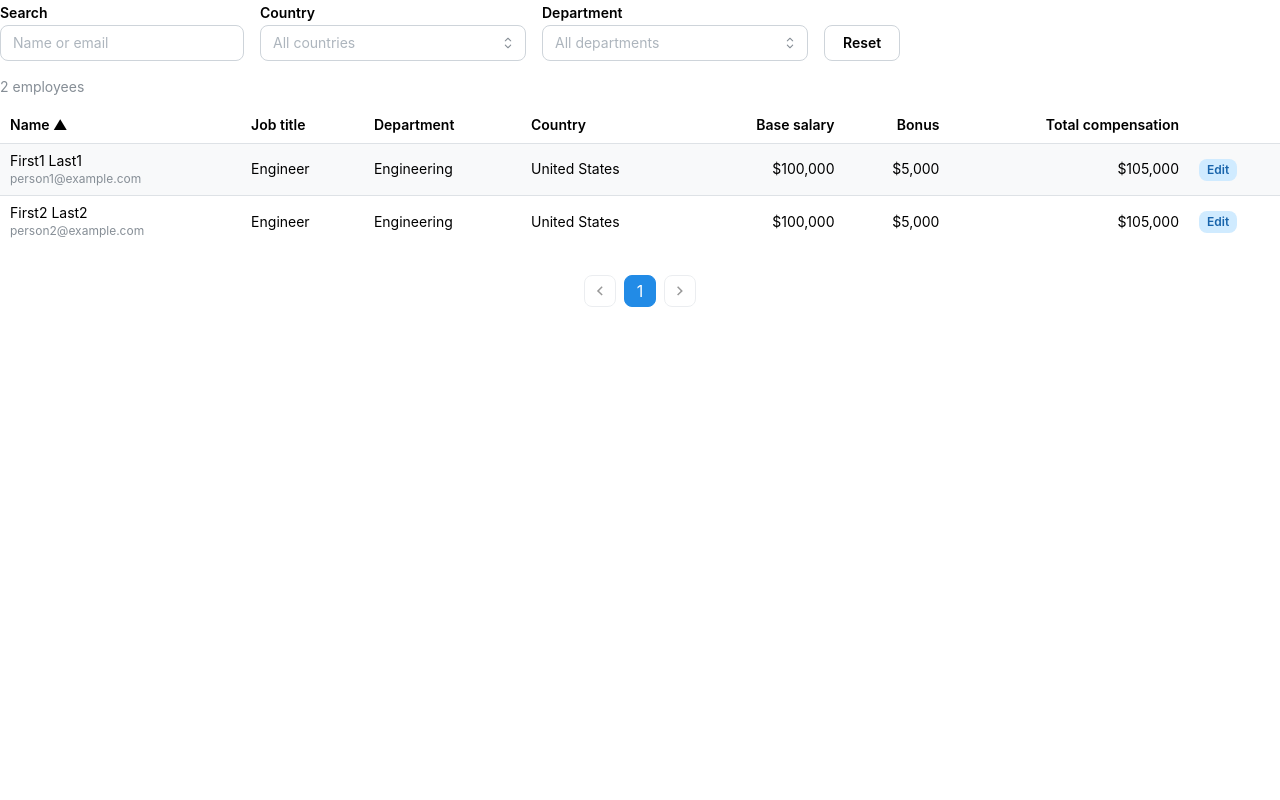
Test: DirectoryPage › editing salary › opens the modal for the chosen employee
This screenshot has width=1280, height=800.
Expected: the text "First1 Last1" is shown, [10,152,82,169]
Click the button with aria-label "Edit salary for First2 Last2" at (1218, 222), box [1199,211,1237,233]
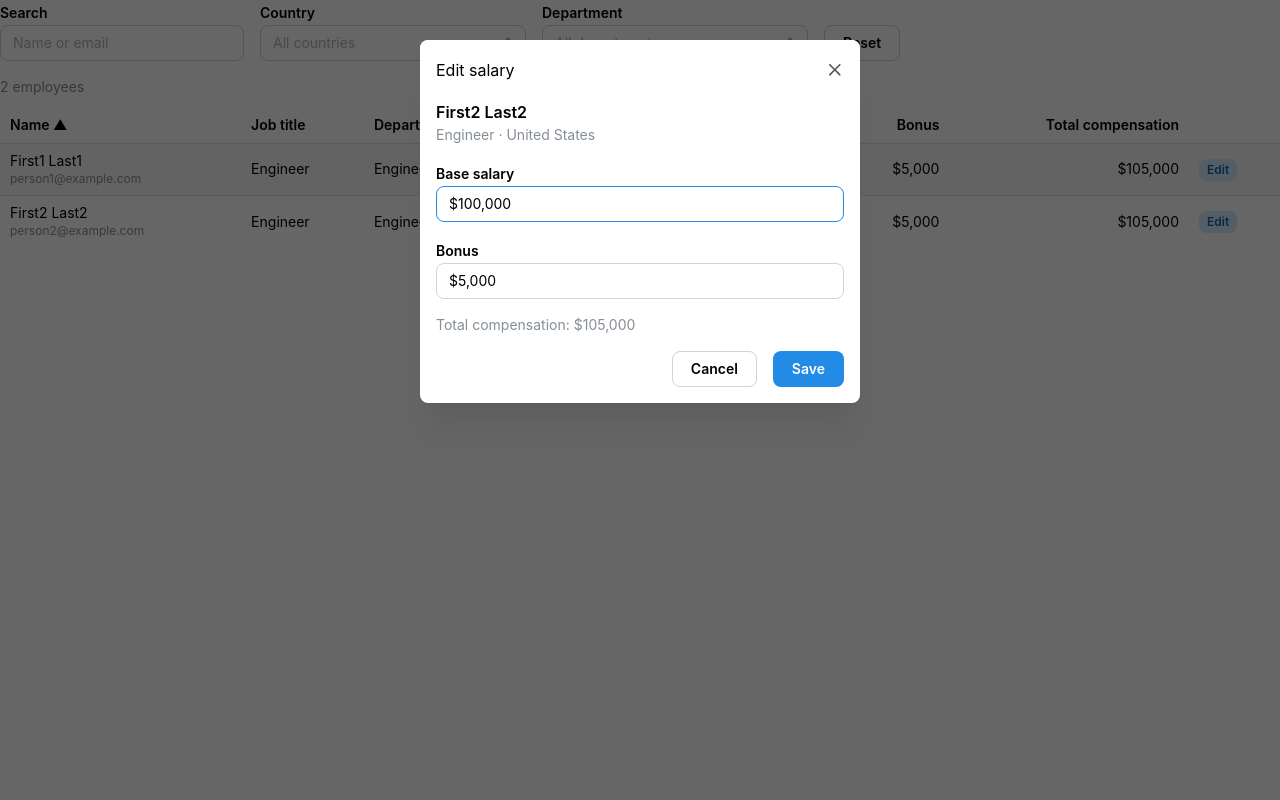
Now the dialog "Edit salary" is shown, box [420,40,860,403]
Now the field labelled "Base salary" holds "$100,000", box [436,186,844,222]
